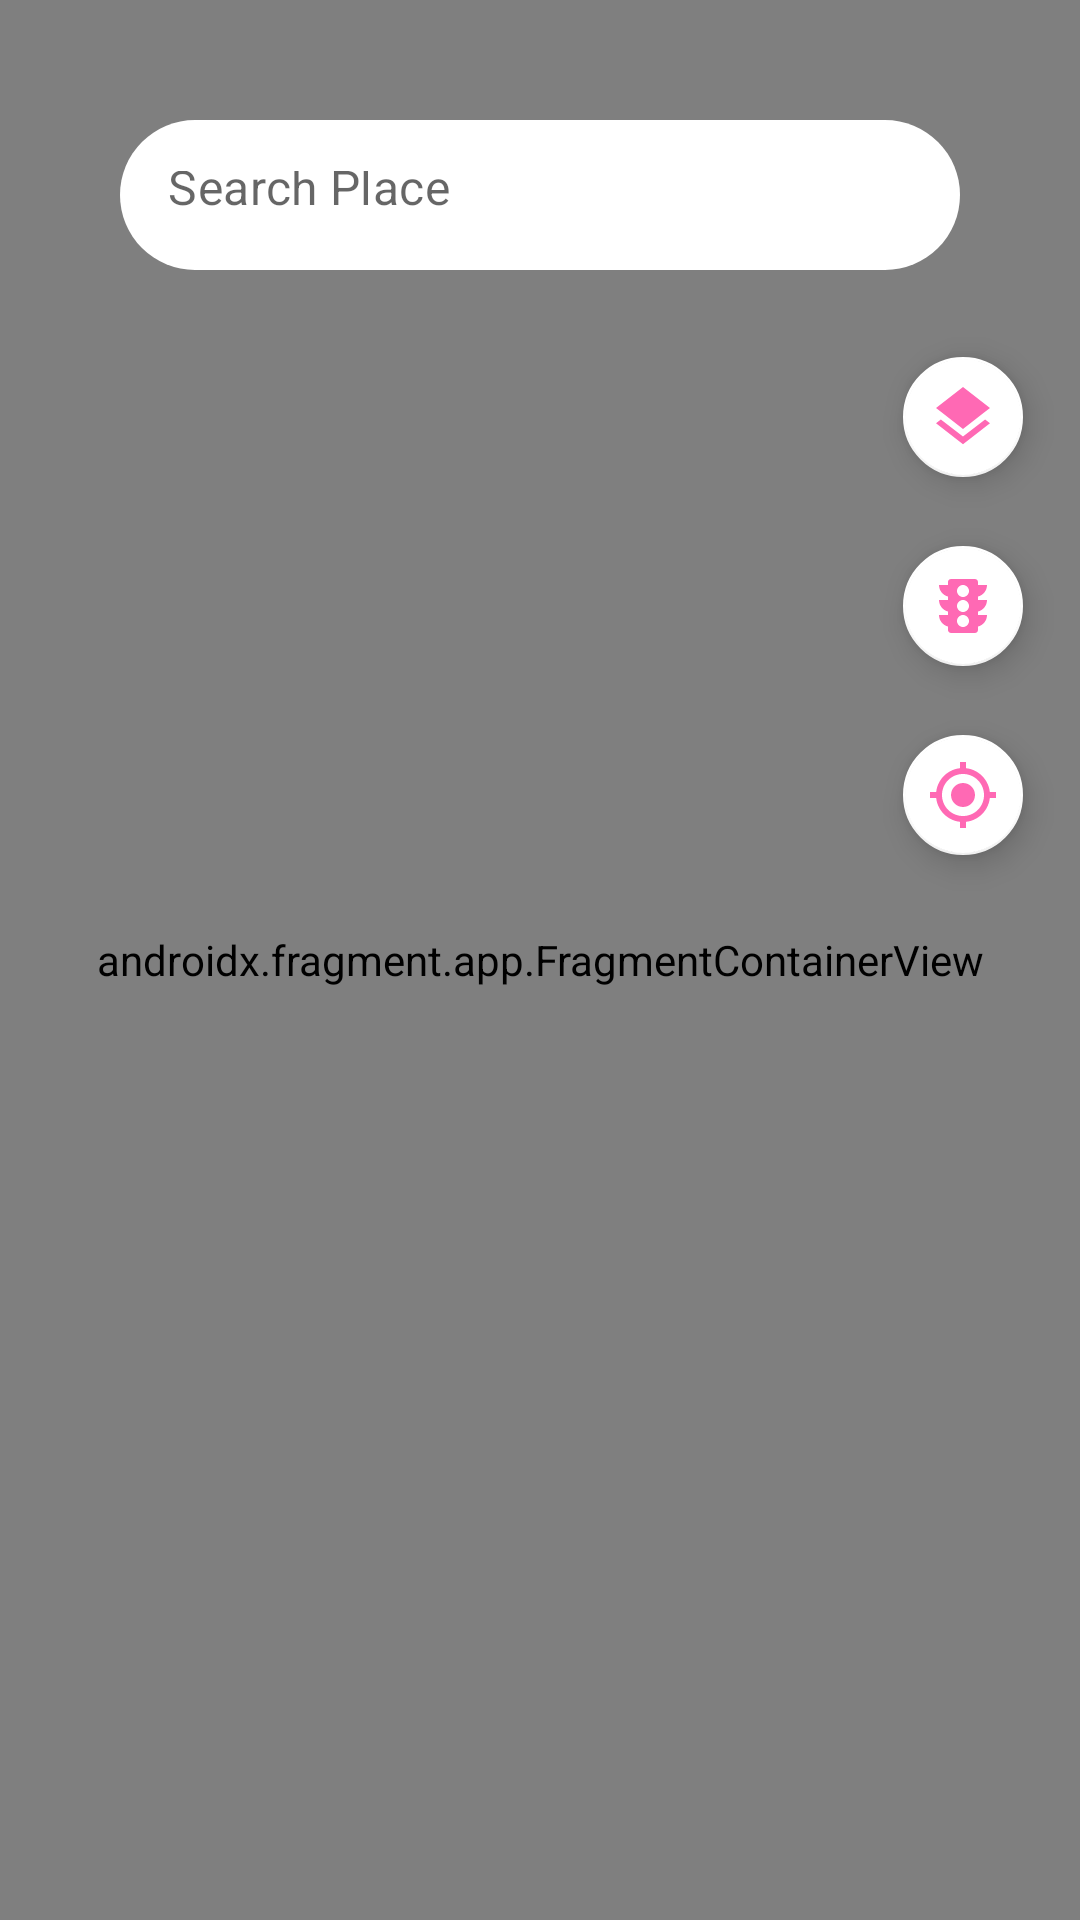

Where to tap for icons on this 1080×1920 app screen, as (x,y):
location: (963,795)
map type: (963,417)
traffic: (963,606)
